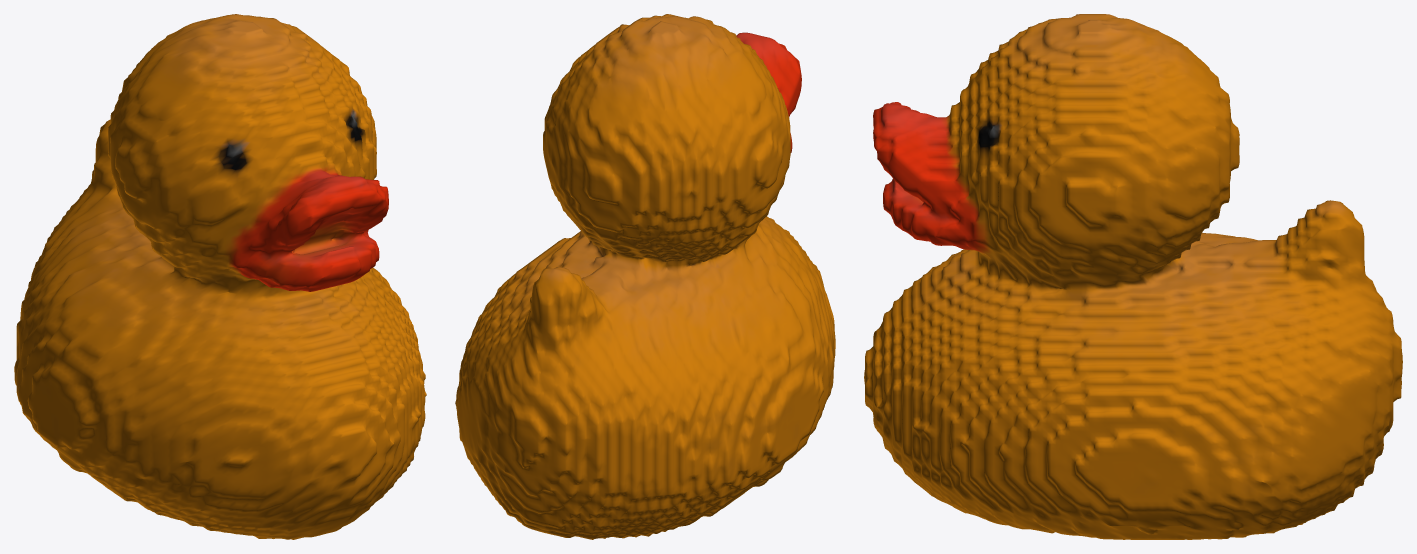
Rendered from rubber-duck-real.glb.
3 views of the same model, side by side, from view 1: azimuth 30°, elevation 25°; view 2: azimuth 150°, elevation 25°; view 3: azimuth 270°, elevation 25° (orthographic). The views are drawn at different scales.
Parts seen in each view (by area): view 1: rubber-duck-real; view 2: rubber-duck-real; view 3: rubber-duck-real.
Part boxes in pixels (box(x1,y1,x2,y2)): rubber-duck-real: box(14, 14, 426, 539); rubber-duck-real: box(455, 14, 835, 539); rubber-duck-real: box(864, 14, 1402, 539).
Size of the model in its own units: 0.0716 by 0.0952 by 0.1.
